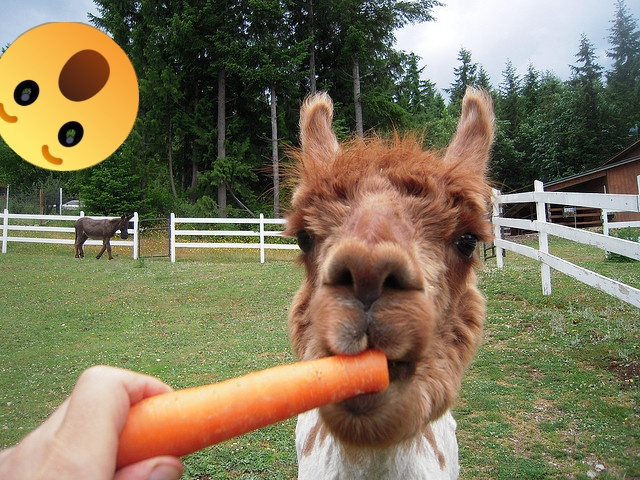wow: (0, 22, 139, 171)
